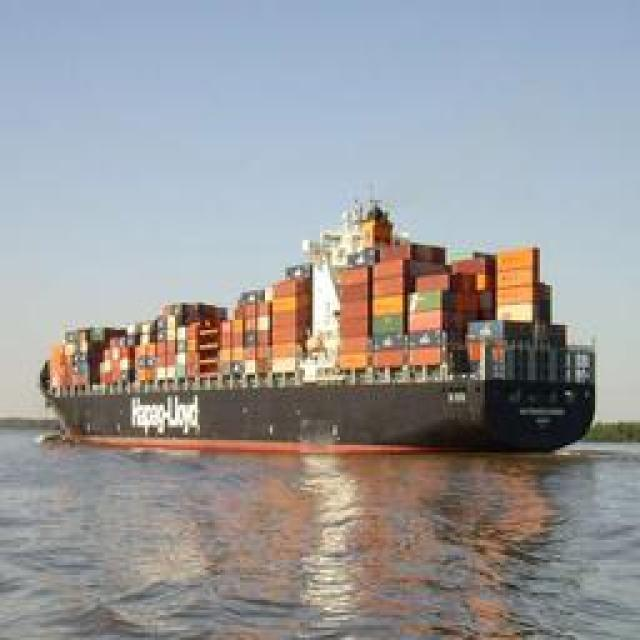CIV_Ship: (39, 176, 602, 452)
